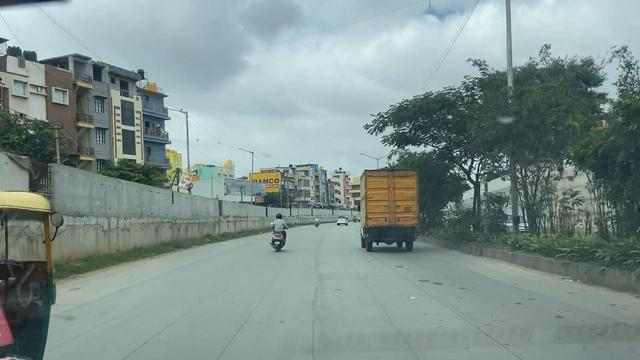HMV: (346, 159, 426, 265)
